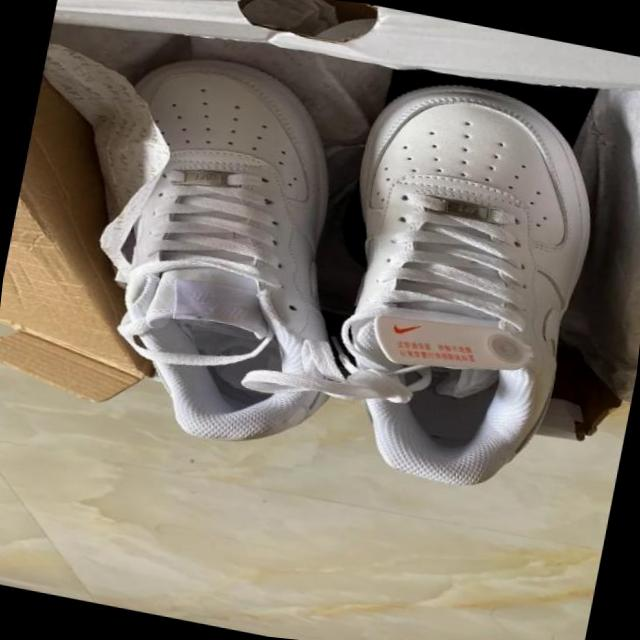nike_fake_airforce: (55, 36, 392, 467), (297, 65, 614, 509)
